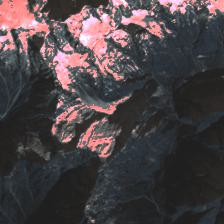landslides: (31, 138, 57, 170), (14, 136, 24, 172), (152, 87, 163, 98)
